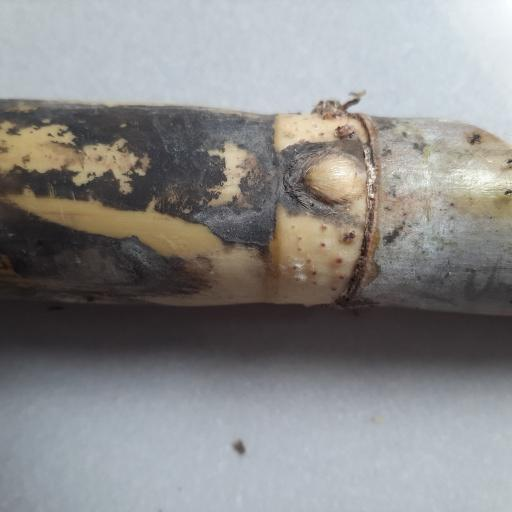Bud: (301, 149, 367, 207)
